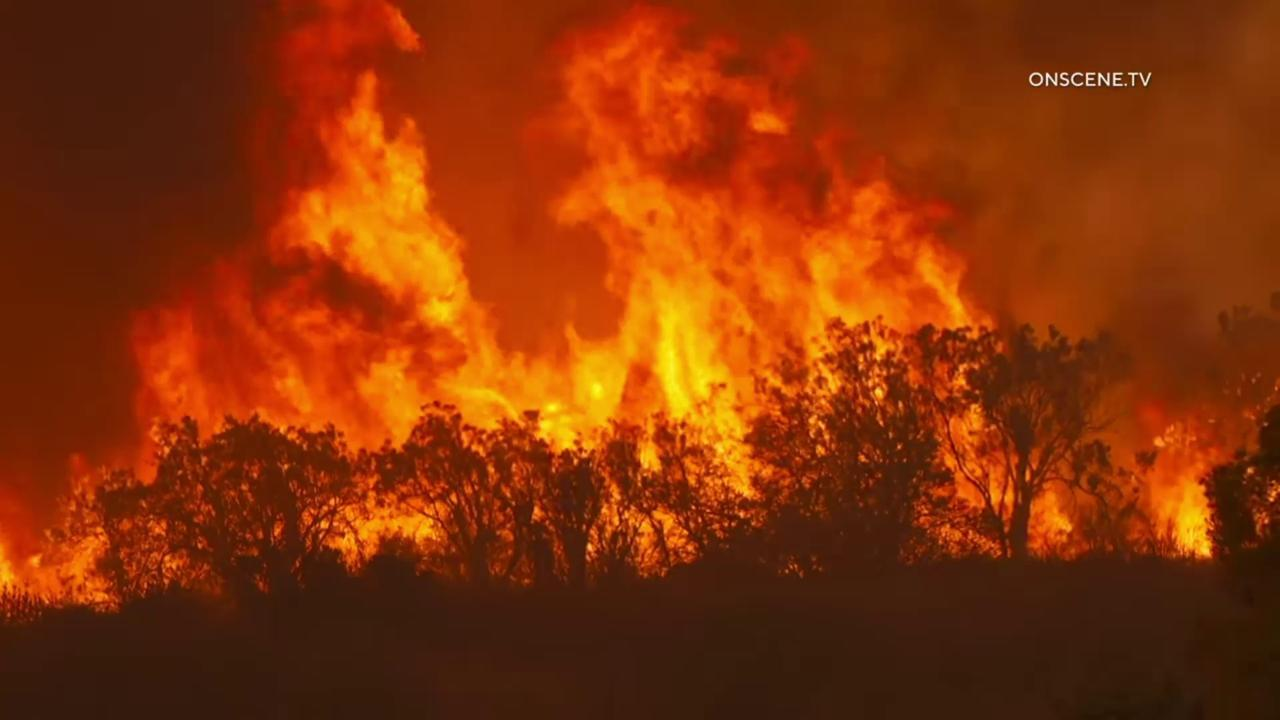fire: (0, 0, 1085, 626), (1126, 378, 1280, 563)
smoke: (0, 0, 1280, 720)
